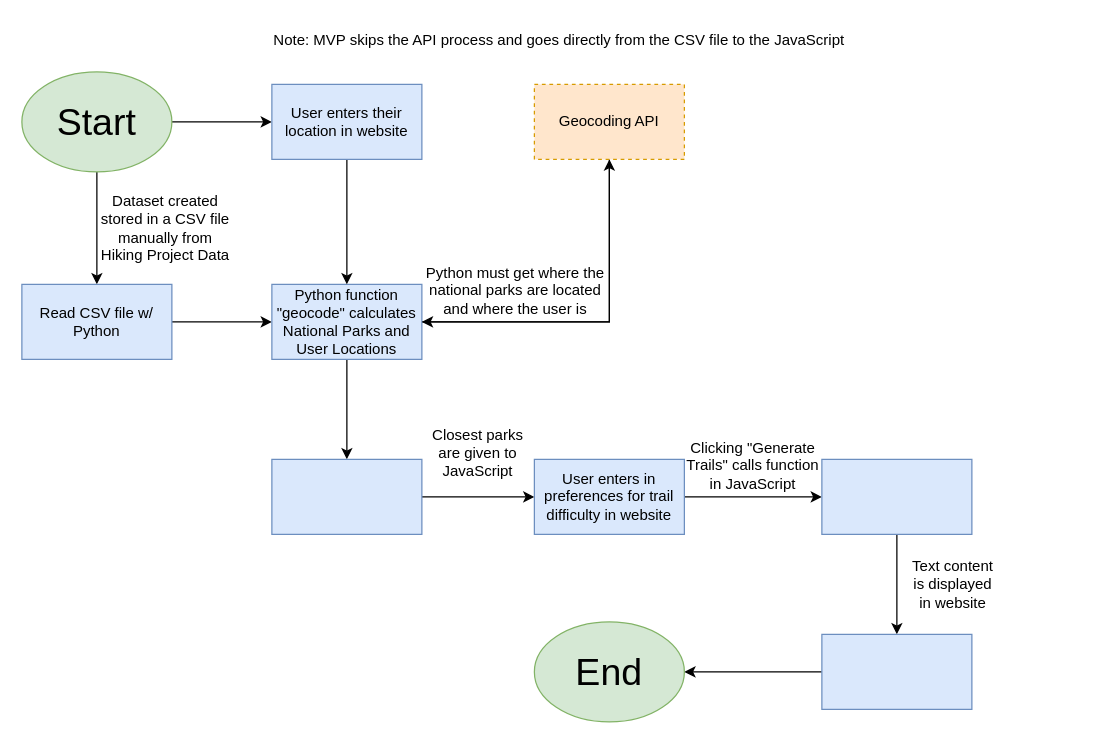
This 1094x744 diagram has some shape labels left out. Here are the shapes that lost their labels. From the top down, the box of each, then its label:
(271, 458, 422, 534): Python does distance calculation to find closest parks
(821, 458, 972, 534): JavaScript function "match" returns the best trails
(821, 633, 972, 709): Result is returned to the user
